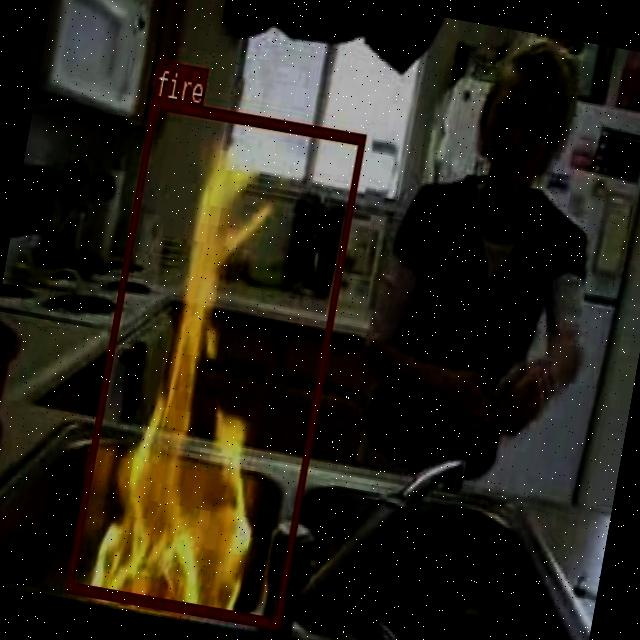fire: (64, 95, 364, 628)
